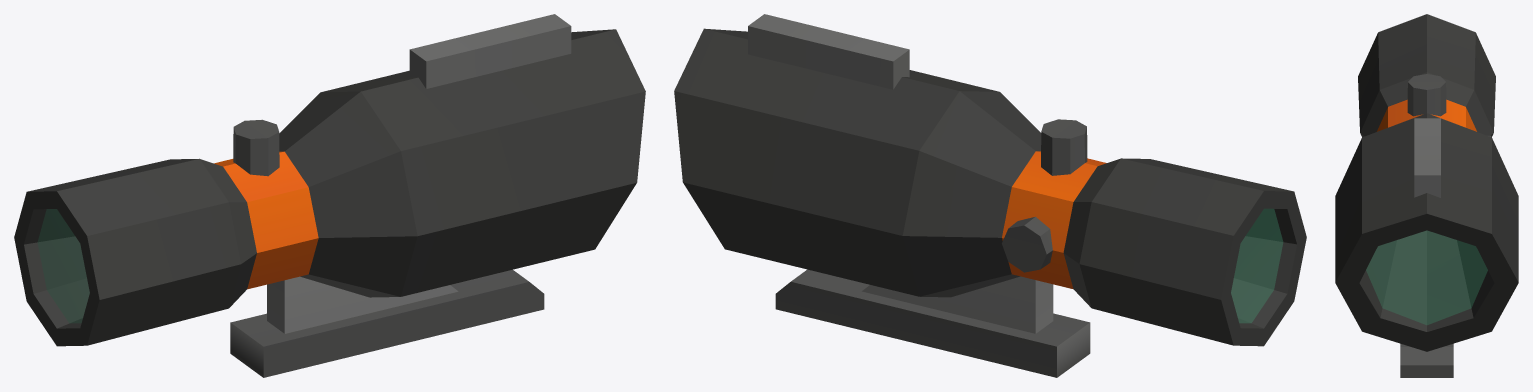
The model's file is ACOG_mesh.fbx.
3 views of the same model, side by side, from view 1: azimuth 30°, elevation 25°; view 2: azimuth 150°, elevation 25°; view 3: azimuth 270°, elevation 25° (orthographic). The views are drawn at different scales.
Parts seen in each view (by area): view 1: ACOG_mesh; view 2: ACOG_mesh; view 3: ACOG_mesh.
Boxes of the visible parts, x1,y1,x2,y2 form: ACOG_mesh: [14, 14, 645, 377]; ACOG_mesh: [674, 14, 1306, 377]; ACOG_mesh: [1335, 14, 1518, 377].
Bounding box in the file's own units: 17.27 × 7.92 × 6.08.
2 materials, 1 textured.
